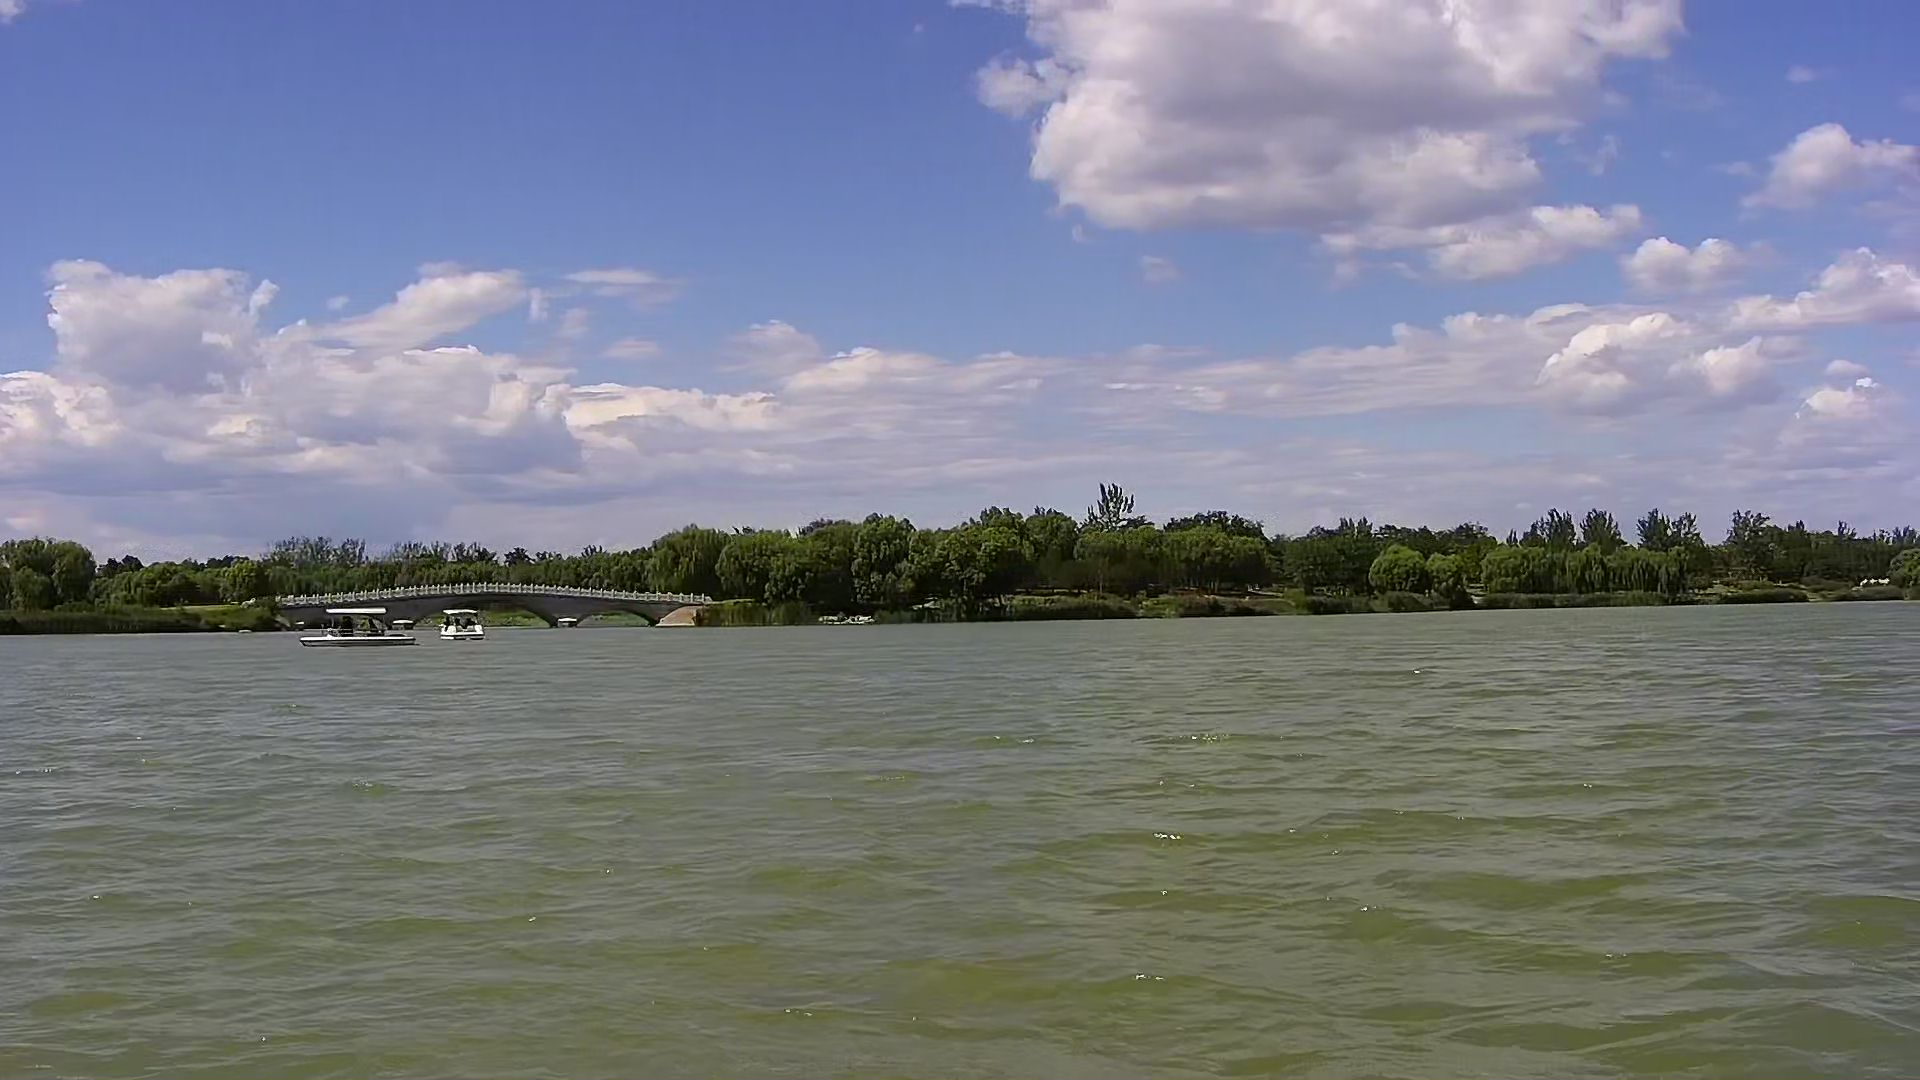boat: (297, 603, 421, 655), (436, 611, 498, 647)
bridge: (272, 582, 721, 634)
